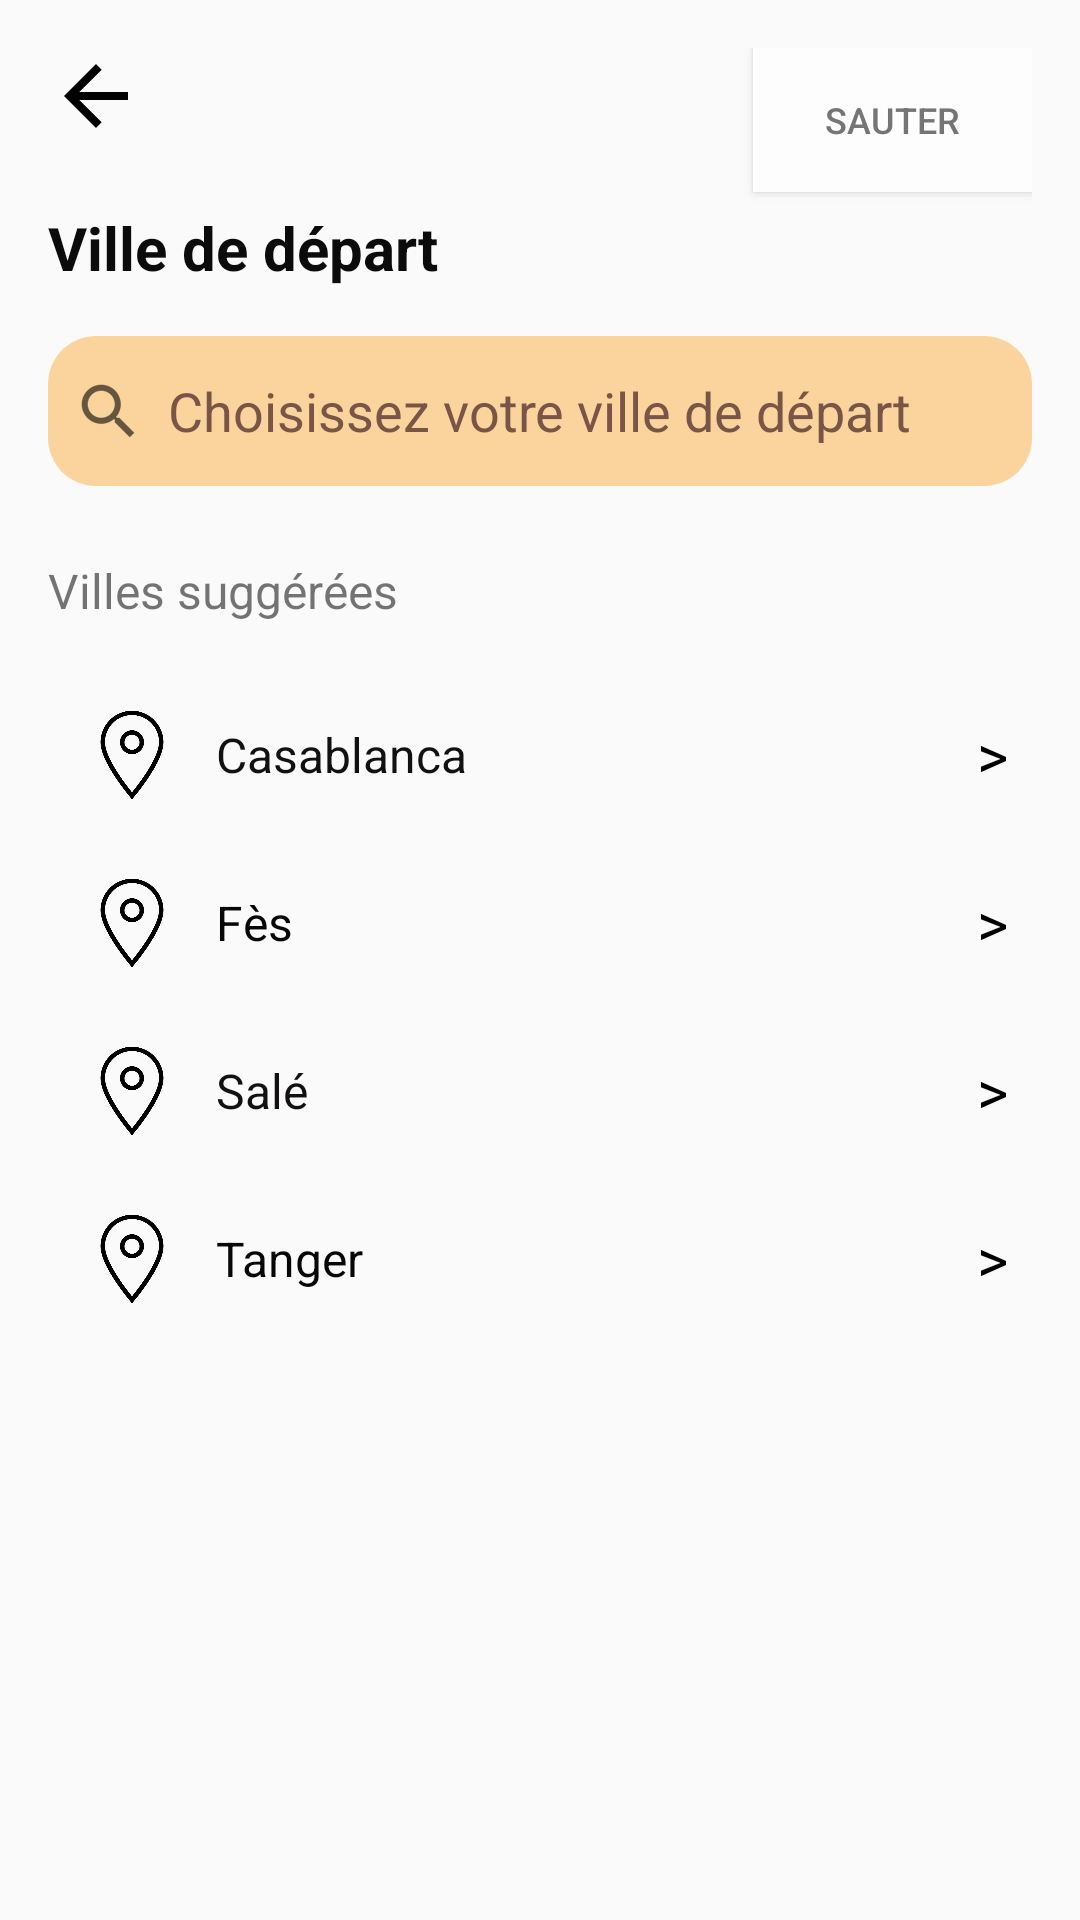

Icon bounding boxes for this 1080x1920 phone screenshot, format (x1, y1, x2, y2):
Icône de localisation: (100, 711, 164, 799), (100, 879, 164, 967), (100, 1047, 164, 1135), (100, 1215, 164, 1303)
Recherche: (81, 384, 134, 437)
Retour: (64, 64, 128, 128)
